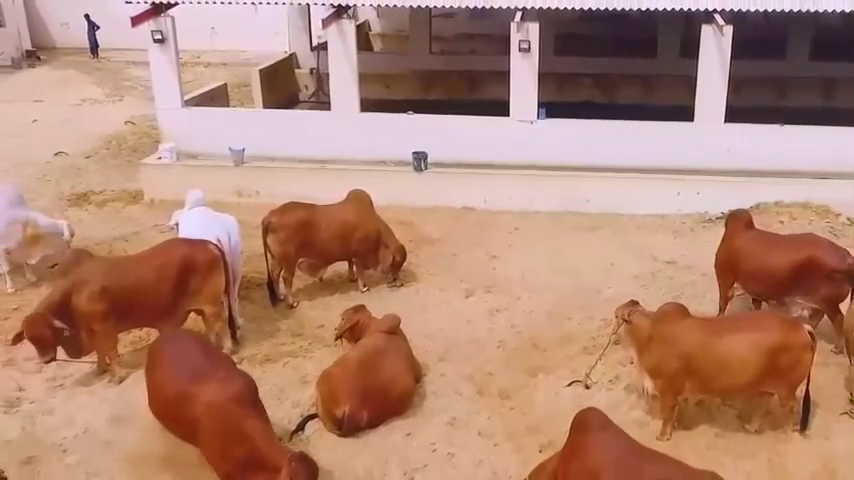bo: (597, 288, 824, 442), (135, 317, 344, 478), (25, 227, 236, 373), (702, 185, 852, 350), (257, 181, 420, 310), (510, 397, 753, 480), (309, 294, 438, 447), (166, 187, 251, 323), (2, 178, 78, 305)
